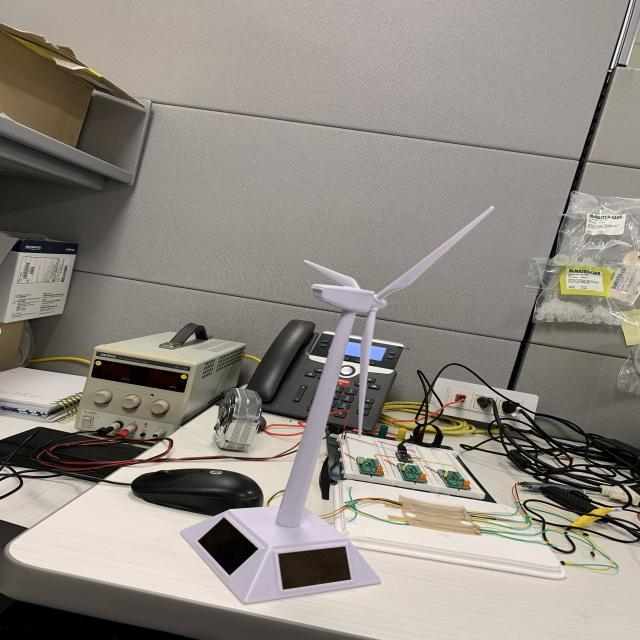solid-blade: (276, 311, 356, 527), (375, 208, 495, 300), (358, 308, 376, 434), (304, 261, 359, 288)
